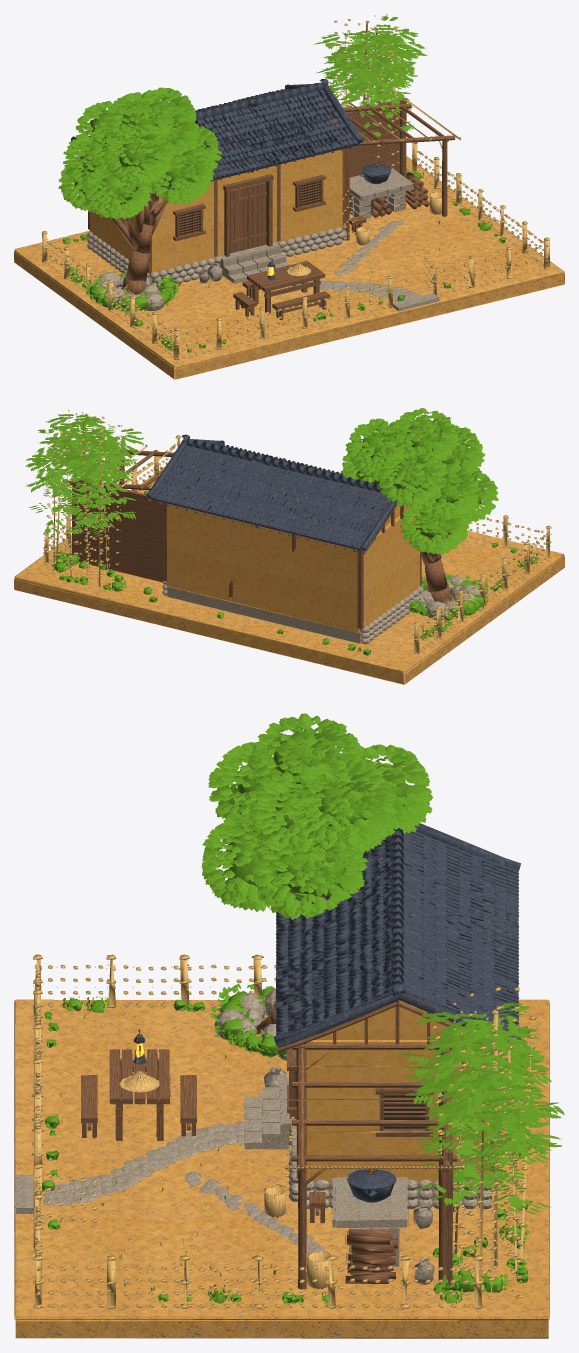
File: jinggangshan-scene.glb
3 views of the same model, one above another, from view 1: azimuth 30°, elevation 25°; view 2: azimuth 150°, elevation 25°; view 3: azimuth 270°, elevation 25° (orthographic). The views are drawn at different scales.
Parts seen in each view (by area): view 1: jinggangshan-scene-complete-environment; view 2: jinggangshan-scene-complete-environment; view 3: jinggangshan-scene-complete-environment.
Part boxes in pixels (x1,y1,x2,y2): jinggangshan-scene-complete-environment: (14,14,564,379); jinggangshan-scene-complete-environment: (14,408,564,684); jinggangshan-scene-complete-environment: (14,713,564,1338).
Size of the model in its own units: 0.9957 by 0.4868 by 0.7132.
41 materials, 39 textured.
